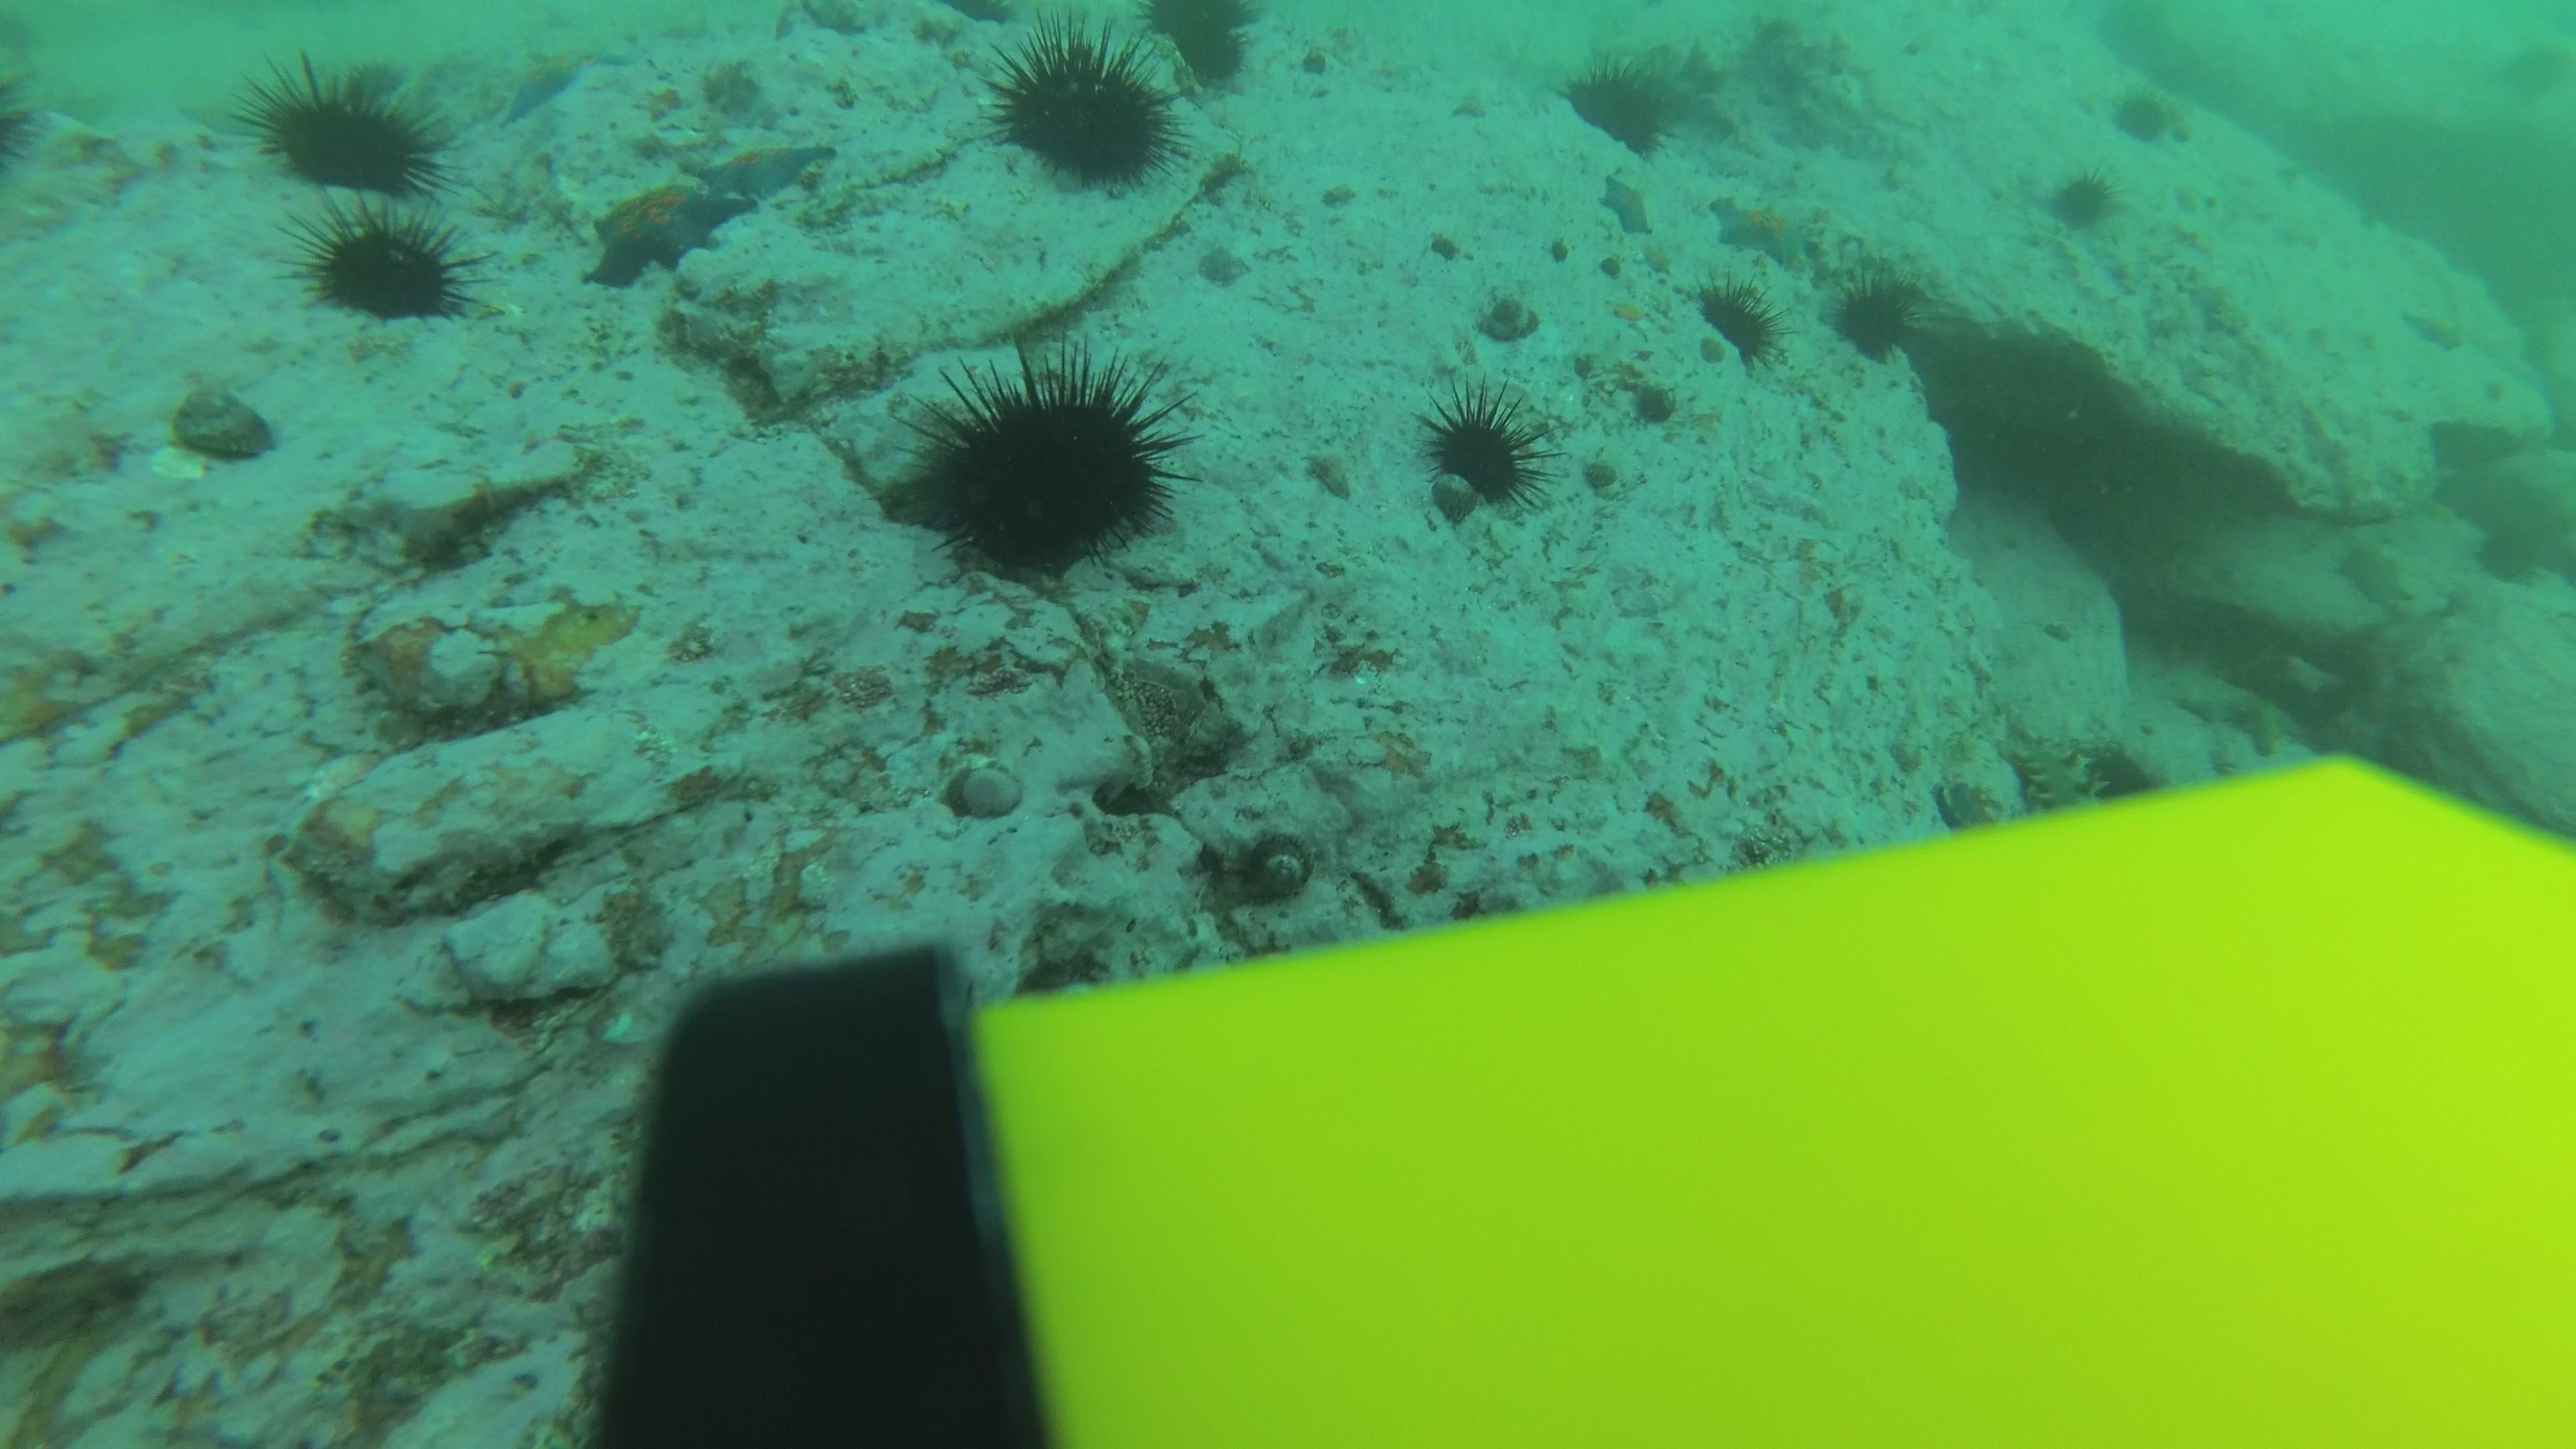echinus: (897, 347, 1189, 582), (980, 16, 1189, 196), (239, 51, 449, 200), (295, 200, 478, 327), (1417, 384, 1552, 518), (1559, 51, 1683, 159), (1138, 0, 1260, 94), (1828, 267, 1925, 364), (1690, 274, 1783, 370), (2107, 83, 2185, 150), (2045, 165, 2120, 234)
holothurian: (1994, 718, 2116, 819)
starfish: (579, 175, 755, 292), (2162, 667, 2312, 757), (686, 133, 839, 207), (1704, 188, 1828, 271), (490, 44, 594, 127), (2332, 538, 2417, 612), (2397, 299, 2472, 356), (1596, 173, 1656, 239)
